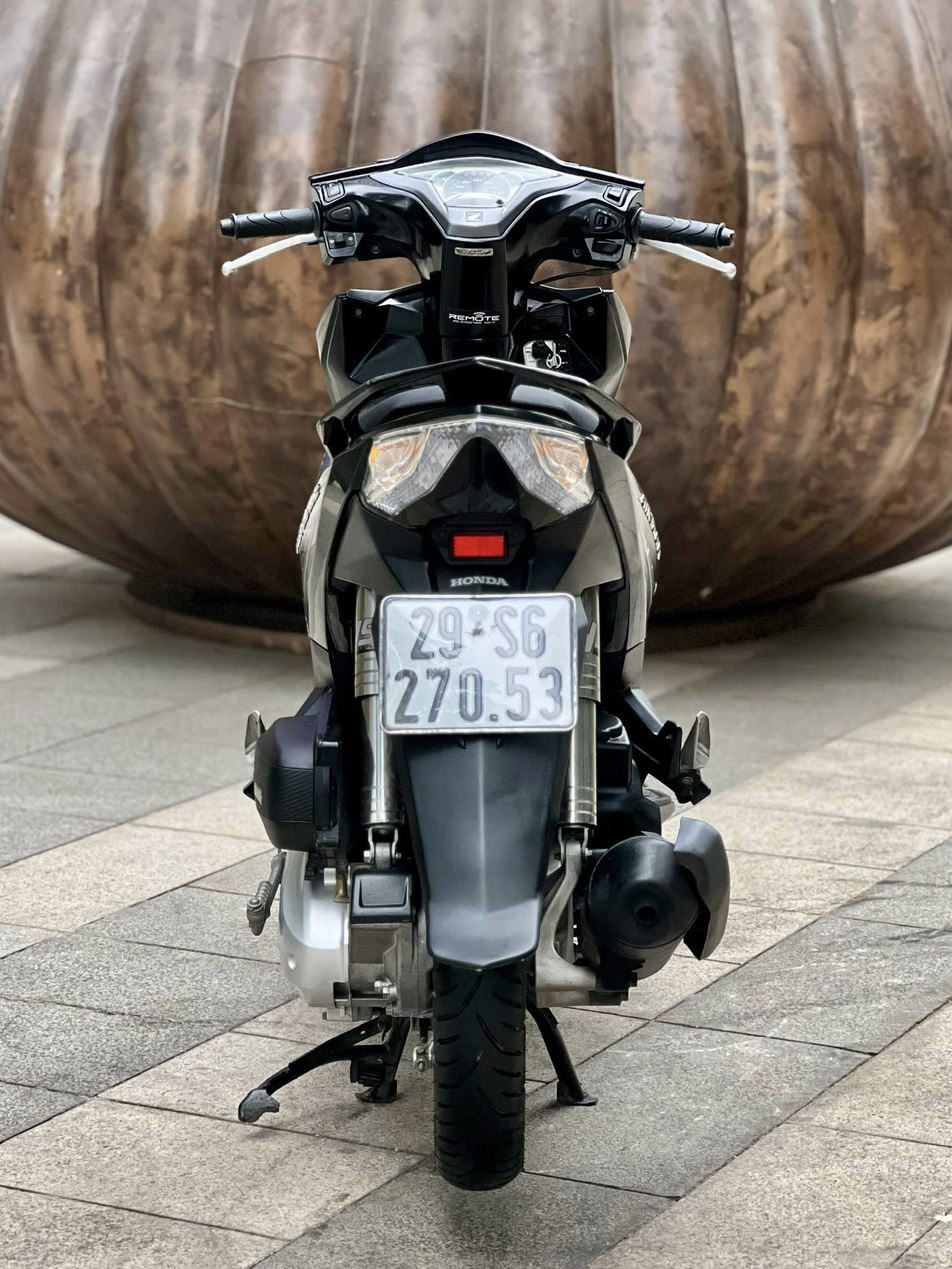bien_so: (373, 585, 587, 741)
